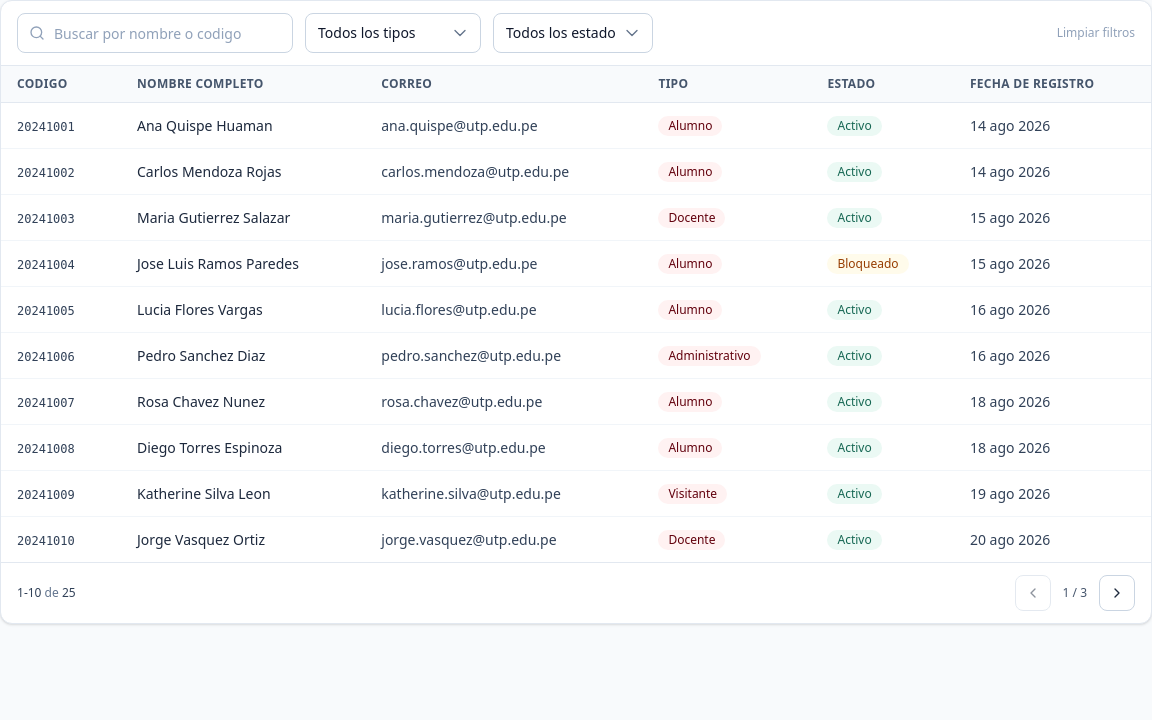
it: UsuariosPage (RFA01) › filtra por estado de usuario
expect the text "Ana Quispe Huaman" is shown: met, box x1=137 y1=116 x2=273 y2=134
Select "Bloqueado" in the dropdown named "Filtrar por estado de usuario": coordinates (573, 33) x1=493 y1=13 x2=653 y2=53
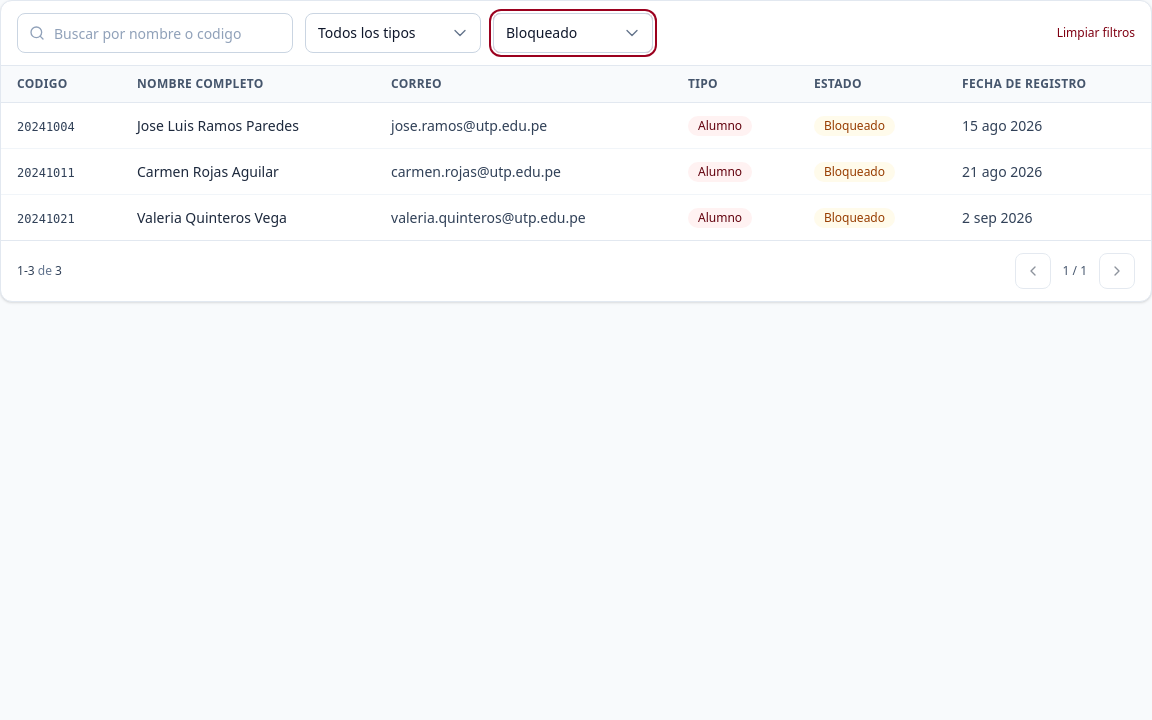
expect the text "Jose Luis Ramos Paredes" is shown: met, box x1=137 y1=116 x2=299 y2=134
expect the text "Carmen Rojas Aguilar" is shown: met, box x1=137 y1=162 x2=279 y2=180
expect the button "Ana Quispe Huaman" is gone: met
